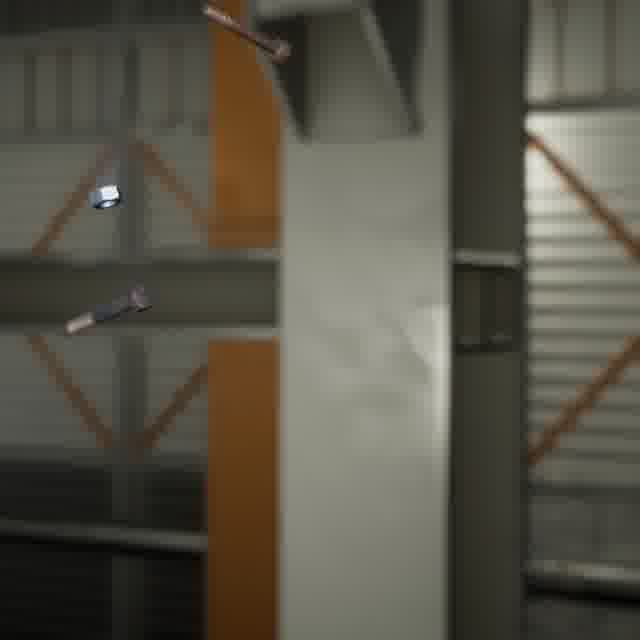bolt: (197, 0, 294, 68), (61, 279, 157, 338)
nut: (84, 181, 127, 213)
